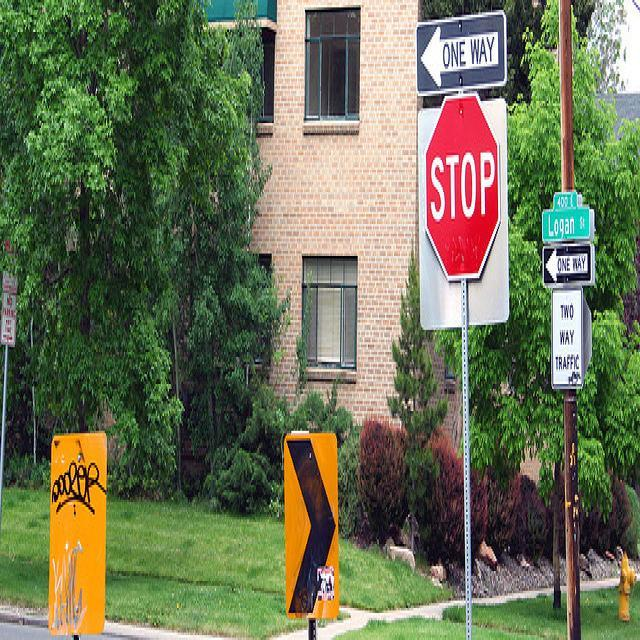fire_hydrant: (618, 552, 637, 620)
